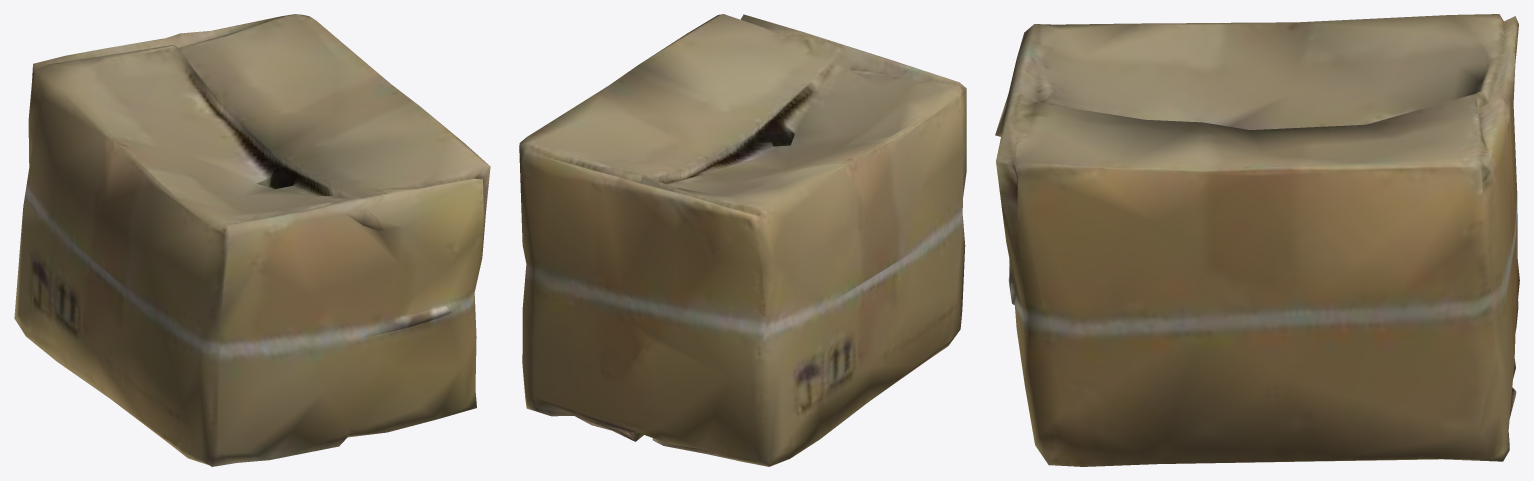
Rendered from cardboard_box_01.glb.
3 views of the same model, side by side, from view 1: azimuth 30°, elevation 25°; view 2: azimuth 150°, elevation 25°; view 3: azimuth 270°, elevation 25° (orthographic). The views are drawn at different scales.
Parts seen in each view (by area): view 1: cardboard_box_01; view 2: cardboard_box_01; view 3: cardboard_box_01.
Part boxes in pixels (<box>): cardboard_box_01: <box>14,14,490,466</box>; cardboard_box_01: <box>519,14,966,466</box>; cardboard_box_01: <box>995,14,1519,466</box>.
Bounding box in the file's own units: 0.3872 × 0.3378 × 0.5151.
1 material, 1 textured.
